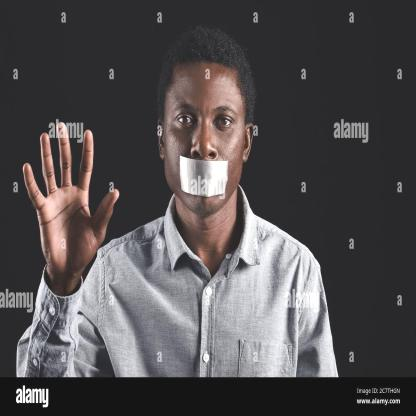Stop: (13, 104, 119, 271)
